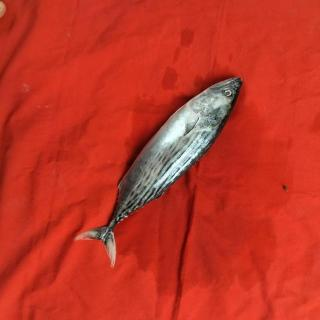Ikan: (70, 67, 246, 270)
